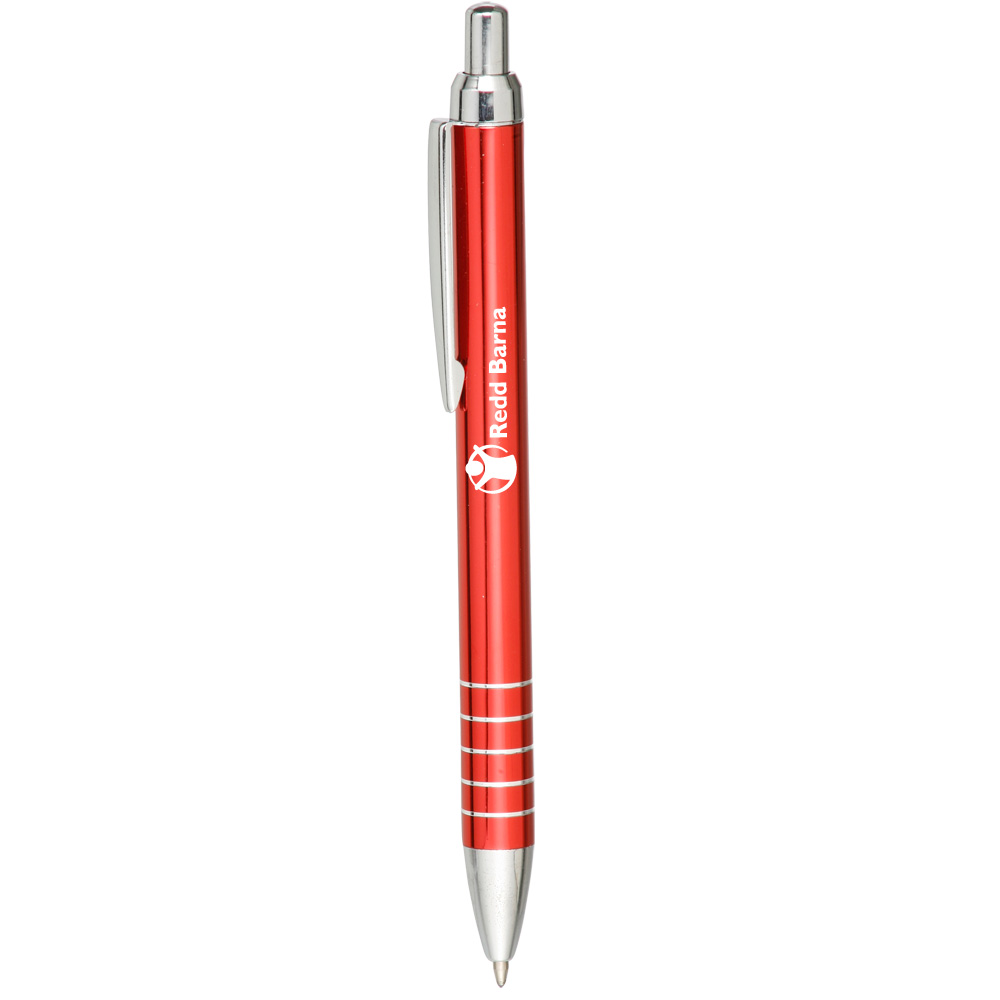pen: (419, 1, 569, 1000)
